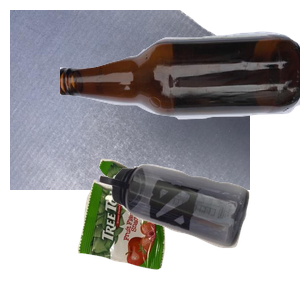cardboard: (10, 10, 250, 190)
glass: (60, 29, 300, 141)
plastic: (97, 162, 300, 300)
trash: (75, 156, 244, 300)
